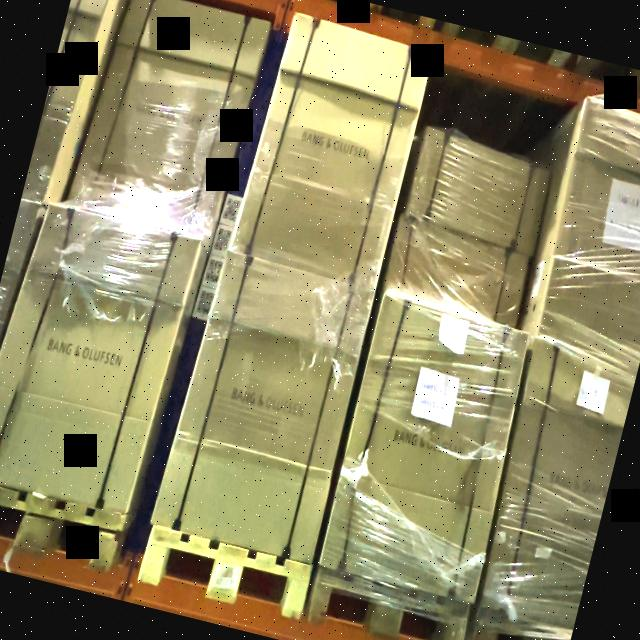box: (150, 249, 375, 564), (318, 295, 528, 600), (0, 206, 199, 515), (233, 15, 432, 291), (66, 0, 271, 243), (405, 126, 550, 257), (383, 215, 528, 327)
